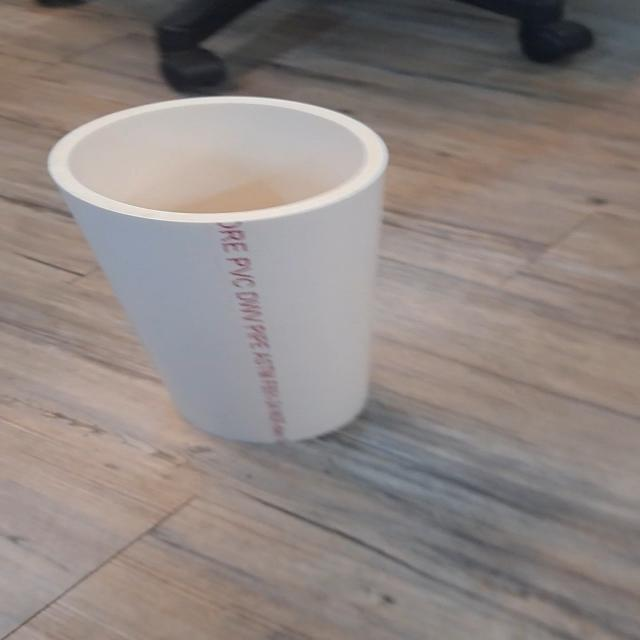CORAL: (39, 92, 435, 445)
